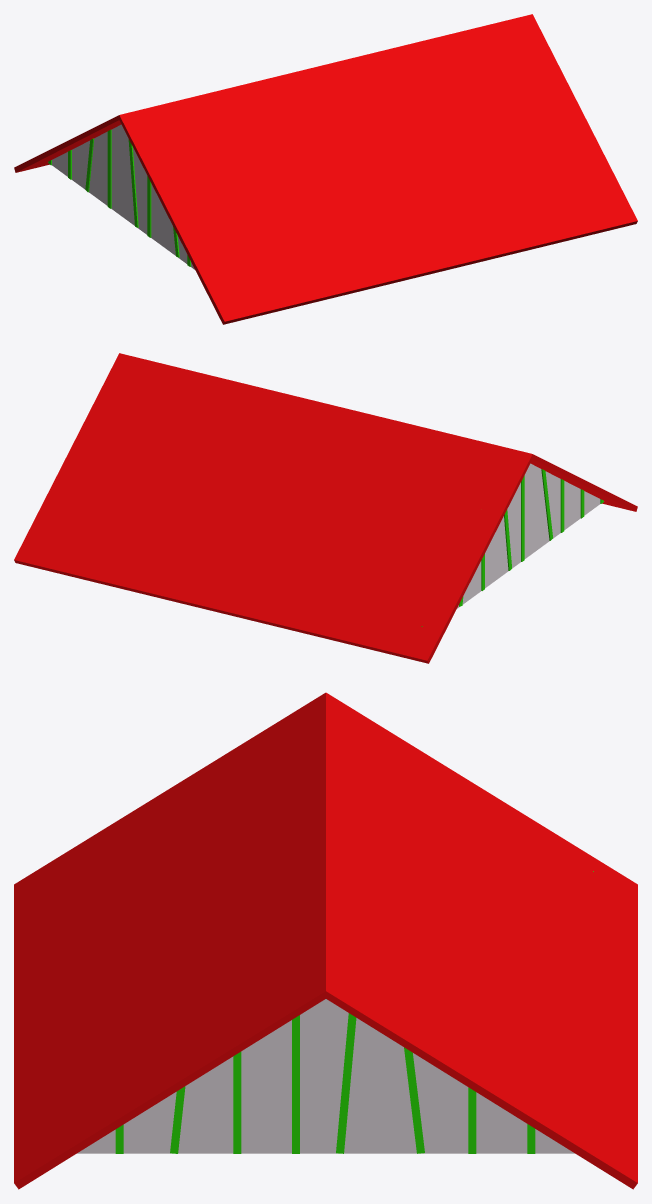
File: roof.fbx
The picture shows the model from 3 angles, top to bottom: view 1: azimuth 30°, elevation 25°; view 2: azimuth 150°, elevation 25°; view 3: azimuth 270°, elevation 25°; orthographic projection. The views are drawn at different scales.
Visible parts, largest first — view 1: roof2; view 2: roof2; view 3: roof2.
Boxes of the visible parts, <box> form: roof2: <box>14,14,637,324</box>; roof2: <box>14,353,637,663</box>; roof2: <box>14,692,637,1189</box>.
Bounding box in the file's own units: 617 × 191 × 545.
